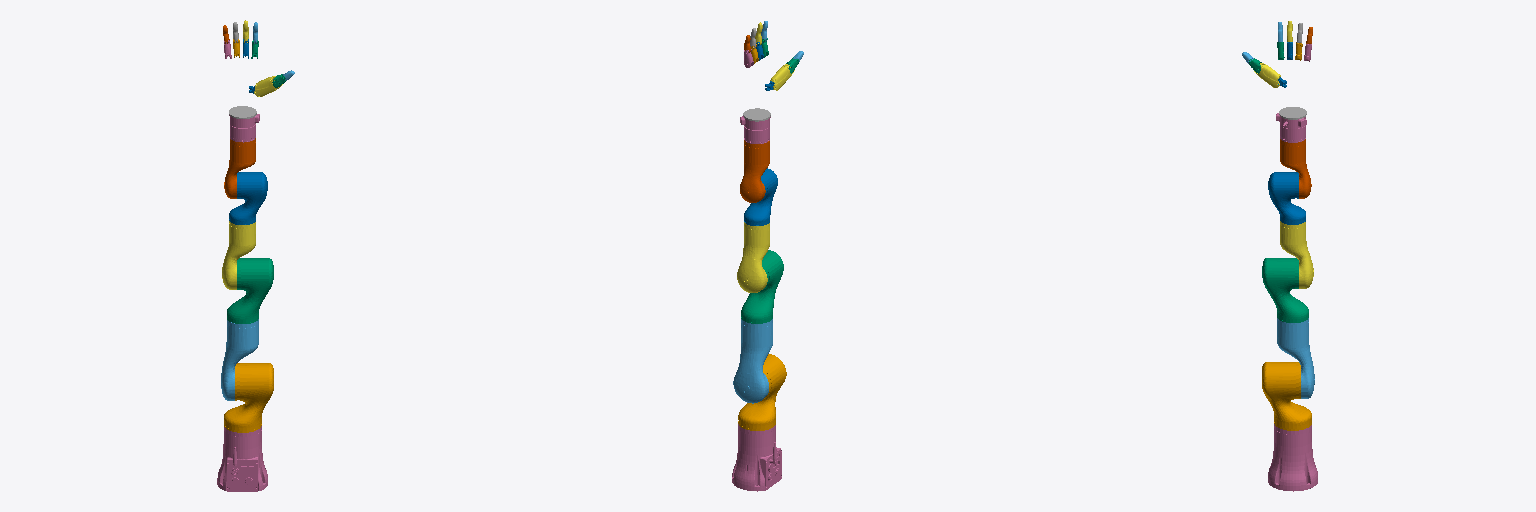
robot.urdf — Realman_Inspire_R_mimic:
<?xml version="1.0" encoding="UTF-8"?>
<robot name="Realman_Inspire_R_mimic">
  <joint name="R_index_intermediate_joint" type="revolute">
    <origin xyz="-0.001 0.032026 0.0026138" rpy="0. 0. 0."/>
    <parent link="R_index_proximal"/>
    <child link="R_index_intermediate"/>
    <axis xyz="1. 0. 0."/>
    <limit lower="0." upper="1.7" effort="1." velocity="17453.2925199"/>
  </joint>
  <joint name="R_index_proximal_joint" type="revolute">
    <origin xyz="-0.0019977 -0.0322074 0.1386 " rpy="1.5707964 0.0348927 -1.6415869"/>
    <parent link="R_hand_base_link"/>
    <child link="R_index_proximal"/>
    <axis xyz="1. 0. 0."/>
    <limit lower="0." upper="1.7" effort="inf" velocity="17453.2925199"/>
  </joint>
  <joint name="R_middle_intermediate_joint" type="revolute">
    <origin xyz="-0.001 0.032041 0.0024229" rpy="0. 0. 0."/>
    <parent link="R_middle_proximal"/>
    <child link="R_middle_intermediate"/>
    <axis xyz="1. 0. 0."/>
    <limit lower="0." upper="1.7" effort="1." velocity="17453.2925199"/>
  </joint>
  <joint name="R_middle_proximal_joint" type="revolute">
    <origin xyz="-0.0006314 -0.0129378 0.13917 " rpy="1.5707964 -0.0000072 -1.6415869"/>
    <parent link="R_hand_base_link"/>
    <child link="R_middle_proximal"/>
    <axis xyz="1. 0. 0."/>
    <limit lower="0." upper="1.7" effort="1." velocity="17453.2925199"/>
  </joint>
  <joint name="R_pinky_intermediate_joint" type="revolute">
    <origin xyz="-0.001 0.032041 0.0024229" rpy="0. 0. 0."/>
    <parent link="R_pinky_proximal"/>
    <child link="R_pinky_intermediate"/>
    <axis xyz="1. 0. 0."/>
    <limit lower="0." upper="1.7" effort="1." velocity="17453.2925199"/>
  </joint>
  <joint name="R_pinky_proximal_joint" type="revolute">
    <origin xyz="0.0020874 0.025404 0.13778 " rpy="1.5707964 -0.1046926 -1.6415869"/>
    <parent link="R_hand_base_link"/>
    <child link="R_pinky_proximal"/>
    <axis xyz="1. 0. 0."/>
    <limit lower="0." upper="1.7" effort="1." velocity="17453.2925199"/>
  </joint>
  <joint name="R_ring_intermediate_joint" type="revolute">
    <origin xyz="-0.001 0.032041 0.0024229" rpy="0. 0. 0."/>
    <parent link="R_ring_proximal"/>
    <child link="R_ring_intermediate"/>
    <axis xyz="1. 0. 0."/>
    <limit lower="0." upper="1.7" effort="1." velocity="17453.2925199"/>
  </joint>
  <joint name="R_ring_proximal_joint" type="revolute">
    <origin xyz="0.0007293 0.0062512 0.13898 " rpy="1.5707964 -0.0523926 -1.6415869"/>
    <parent link="R_hand_base_link"/>
    <child link="R_ring_proximal"/>
    <axis xyz="1. 0. 0."/>
    <limit lower="0." upper="1.7" effort="1." velocity="17453.2925199"/>
  </joint>
  <joint name="R_thumb_distal_joint" type="revolute">
    <origin xyz="-0.0012 0.010156 -0.020248" rpy="0. 0. 0."/>
    <parent link="R_thumb_intermediate"/>
    <child link="R_thumb_distal"/>
    <axis xyz="1. 0. 0."/>
    <limit lower="-3.1415927" upper="3.1415927" effort="1." velocity="0.5"/>
  </joint>
  <joint name="R_thumb_intermediate_joint" type="revolute">
    <origin xyz="-0.0008 0.034553 -0.04407 " rpy="0. 0. 0."/>
    <parent link="R_thumb_proximal"/>
    <child link="R_thumb_intermediate"/>
    <axis xyz="1. 0. 0."/>
    <limit lower="-3.1415927" upper="3.1415927" effort="1." velocity="17453.2925199"/>
  </joint>
  <joint name="R_thumb_proximal_pitch_joint" type="revolute">
    <origin xyz="0.00925 0.010892 -0.0088099" rpy="0.0000011 -0.2828926 1.5707926"/>
    <parent link="R_thumb_proximal_base"/>
    <child link="R_thumb_proximal"/>
    <axis xyz="1. 0. 0."/>
    <limit lower="-0.1" upper="0.6" effort="1." velocity="17453.2925199"/>
  </joint>
  <joint name="R_thumb_proximal_yaw_joint" type="revolute">
    <origin xyz="-0.018364 -0.0191992 0.07117 " rpy="1.5940461 1.5707927 3.0940557"/>
    <parent link="R_hand_base_link"/>
    <child link="R_thumb_proximal_base"/>
    <axis xyz="1. 0. 0."/>
    <limit lower="-0.1" upper="1.2999998" effort="1." velocity="0.5"/>
  </joint>
  <joint name="hand_joint" type="fixed">
    <origin xyz="-0. 0. 0." rpy="0. 1.5707963 0. "/>
    <parent link="Link7"/>
    <child link="R_flange_link"/>
  </joint>
  <joint name="hand_root_joint" type="fixed">
    <origin xyz="0. 0. -0." rpy="0. 0. 0."/>
    <parent link="R_flange_link"/>
    <child link="R_hand_base_link"/>
  </joint>
  <joint name="joint1" type="revolute">
    <origin xyz="0. 0. 0.2405" rpy="3.1415927 -1.5707928 1.5707964"/>
    <parent link="base_link"/>
    <child link="Link1"/>
    <axis xyz="1. 0. 0."/>
    <limit lower="-3.1070001" upper="3.1070001" effort="100." velocity="1."/>
  </joint>
  <joint name="joint2" type="revolute">
    <origin xyz="0. 0. 0." rpy="3.1415927 -1.5707928 0. "/>
    <parent link="Link1"/>
    <child link="Link2"/>
    <axis xyz="1. 0. 0."/>
    <limit lower="-2.2689999" upper="2.2689999" effort="100." velocity="1."/>
  </joint>
  <joint name="joint3" type="revolute">
    <origin xyz="0. 0. 0.256" rpy="3.1415927 -1.5707928 0. "/>
    <parent link="Link2"/>
    <child link="Link3"/>
    <axis xyz="1. 0. 0."/>
    <limit lower="-3.1070001" upper="3.1070001" effort="100." velocity="1."/>
  </joint>
  <joint name="joint4" type="revolute">
    <origin xyz="0. 0. 0." rpy="3.1415927 -1.5707928 0. "/>
    <parent link="Link3"/>
    <child link="Link4"/>
    <axis xyz="1. 0. 0."/>
    <limit lower="-2.3559998" upper="2.3559998" effort="100." velocity="1."/>
  </joint>
  <joint name="joint5" type="revolute">
    <origin xyz="0. 0. 0.21" rpy="3.1415927 -1.5707928 0. "/>
    <parent link="Link4"/>
    <child link="Link5"/>
    <axis xyz="1. 0. 0."/>
    <limit lower="-3.1070001" upper="3.1070001" effort="100." velocity="1."/>
  </joint>
  <joint name="joint6" type="revolute">
    <origin xyz="0. 0. 0." rpy="3.1415927 -1.5707928 0. "/>
    <parent link="Link5"/>
    <child link="Link6"/>
    <axis xyz="1. 0. 0."/>
    <limit lower="-2.2339999" upper="2.2339999" effort="100." velocity="1."/>
  </joint>
  <joint name="joint7" type="revolute">
    <origin xyz="0. 0. 0.1725" rpy="-1.5707964 -1.5707964 0. "/>
    <parent link="Link6"/>
    <child link="Link7"/>
    <axis xyz="1. 0. 0."/>
    <limit lower="-6.2829994" upper="6.2829994" effort="100." velocity="1."/>
  </joint>
  <joint name="root_joint" type="fixed">
    <origin xyz="0. 0. 0." rpy="0. 0. 0."/>
    <parent link="Root"/>
    <child link="base_link"/>
  </joint>
  <link name="Link1">
    <inertial>
      <origin xyz="0. 0. 0." rpy="0. 0. 0."/>
      <mass value="0.59356"/>
      <inertia ixx="0." ixy="0." ixz="0." iyy="0." iyz="0." izz="0."/>
    </inertial>
    <visual>
      <origin xyz="0. 0. 0." rpy="0. 0. 1.5707964"/>
      <geometry>
        <mesh filename="meshes/Link1_visuals.obj" scale="1. 1. 1."/>
      </geometry>
    </visual>
    <visual>
      <origin xyz="0. 0. 0." rpy="0. 0. 1.5707964"/>
      <geometry>
        <mesh filename="meshes/Link1_collisions.obj" scale="1. 1. 1."/>
      </geometry>
    </visual>
    <collision>
      <origin xyz="0. 0. 0." rpy="0. 0. 1.5707964"/>
      <geometry>
        <mesh filename="meshes/Link1_collisions.obj" scale="1. 1. 1."/>
      </geometry>
    </collision>
  </link>
  <link name="Link2">
    <inertial>
      <origin xyz="0. 0. 0." rpy="0. 0. 0."/>
      <mass value="0.43285"/>
      <inertia ixx="0." ixy="0." ixz="0." iyy="0." iyz="0." izz="0."/>
    </inertial>
    <visual>
      <origin xyz="0. 0. 0." rpy="0. 0. -1.5707964"/>
      <geometry>
        <mesh filename="meshes/Link2_visuals.obj" scale="1. 1. 1."/>
      </geometry>
    </visual>
    <visual>
      <origin xyz="0. 0. 0." rpy="0. 0. -1.5707964"/>
      <geometry>
        <mesh filename="meshes/Link2_collisions.obj" scale="1. 1. 1."/>
      </geometry>
    </visual>
    <collision>
      <origin xyz="0. 0. 0." rpy="0. 0. -1.5707964"/>
      <geometry>
        <mesh filename="meshes/Link2_collisions.obj" scale="1. 1. 1."/>
      </geometry>
    </collision>
  </link>
  <link name="Link3">
    <inertial>
      <origin xyz="0. 0. 0." rpy="0. 0. 0."/>
      <mass value="0.43132"/>
      <inertia ixx="0." ixy="0." ixz="0." iyy="0." iyz="0." izz="0."/>
    </inertial>
    <visual>
      <origin xyz="0. 0. 0." rpy="0. 0. 1.5707964"/>
      <geometry>
        <mesh filename="meshes/Link3_visuals.obj" scale="1. 1. 1."/>
      </geometry>
    </visual>
    <visual>
      <origin xyz="0. 0. 0." rpy="0. 0. 1.5707964"/>
      <geometry>
        <mesh filename="meshes/Link3_collisions.obj" scale="1. 1. 1."/>
      </geometry>
    </visual>
    <collision>
      <origin xyz="0. 0. 0." rpy="0. 0. 1.5707964"/>
      <geometry>
        <mesh filename="meshes/Link3_collisions.obj" scale="1. 1. 1."/>
      </geometry>
    </collision>
  </link>
  <link name="Link4">
    <inertial>
      <origin xyz="0. 0. 0." rpy="0. 0. 0."/>
      <mass value="0.28963"/>
      <inertia ixx="0." ixy="0." ixz="0." iyy="0." iyz="0." izz="0."/>
    </inertial>
    <visual>
      <origin xyz="0. 0. 0." rpy="0. 0. -1.5707964"/>
      <geometry>
        <mesh filename="meshes/Link4_visuals.obj" scale="1. 1. 1."/>
      </geometry>
    </visual>
    <visual>
      <origin xyz="0. 0. 0." rpy="0. 0. -1.5707964"/>
      <geometry>
        <mesh filename="meshes/Link4_collisions.obj" scale="1. 1. 1."/>
      </geometry>
    </visual>
    <collision>
      <origin xyz="0. 0. 0." rpy="0. 0. -1.5707964"/>
      <geometry>
        <mesh filename="meshes/Link4_collisions.obj" scale="1. 1. 1."/>
      </geometry>
    </collision>
  </link>
  <link name="Link5">
    <inertial>
      <origin xyz="0. 0. 0." rpy="0. 0. 0."/>
      <mass value="0.23941"/>
      <inertia ixx="0." ixy="0." ixz="0." iyy="0." iyz="0." izz="0."/>
    </inertial>
    <visual>
      <origin xyz="0. 0. 0." rpy="0. 0. 1.5707964"/>
      <geometry>
        <mesh filename="meshes/Link5_visuals.obj" scale="1. 1. 1."/>
      </geometry>
    </visual>
    <visual>
      <origin xyz="0. 0. 0." rpy="0. 0. 1.5707964"/>
      <geometry>
        <mesh filename="meshes/Link5_collisions.obj" scale="1. 1. 1."/>
      </geometry>
    </visual>
    <collision>
      <origin xyz="0. 0. 0." rpy="0. 0. 1.5707964"/>
      <geometry>
        <mesh filename="meshes/Link5_collisions.obj" scale="1. 1. 1."/>
      </geometry>
    </collision>
  </link>
  <link name="Link6">
    <inertial>
      <origin xyz="0. 0. 0." rpy="0. 0. 0."/>
      <mass value="0.21879"/>
      <inertia ixx="0." ixy="0." ixz="0." iyy="0." iyz="0." izz="0."/>
    </inertial>
    <visual>
      <origin xyz="0. 0. 0." rpy="0. 0. -1.5707964"/>
      <geometry>
        <mesh filename="meshes/Link6_visuals.obj" scale="1. 1. 1."/>
      </geometry>
    </visual>
    <visual>
      <origin xyz="0. 0. 0." rpy="0. 0. -1.5707964"/>
      <geometry>
        <mesh filename="meshes/Link6_collisions.obj" scale="1. 1. 1."/>
      </geometry>
    </visual>
    <collision>
      <origin xyz="0. 0. 0." rpy="0. 0. -1.5707964"/>
      <geometry>
        <mesh filename="meshes/Link6_collisions.obj" scale="1. 1. 1."/>
      </geometry>
    </collision>
  </link>
  <link name="Link7">
    <inertial>
      <origin xyz="0. 0. 0." rpy="0. 0. 0."/>
      <mass value="0.14433"/>
      <inertia ixx="0." ixy="0." ixz="0." iyy="0." iyz="0." izz="0."/>
    </inertial>
    <visual>
      <origin xyz="0. 0. 0." rpy="0. 1.5707963 0. "/>
      <geometry>
        <mesh filename="meshes/Link7_visuals.obj" scale="1. 1. 1."/>
      </geometry>
    </visual>
    <visual>
      <origin xyz="0. 0. 0." rpy="0. 1.5707963 0. "/>
      <geometry>
        <mesh filename="meshes/Link7_collisions.obj" scale="1. 1. 1."/>
      </geometry>
    </visual>
    <collision>
      <origin xyz="0. 0. 0." rpy="0. 1.5707963 0. "/>
      <geometry>
        <mesh filename="meshes/Link7_collisions.obj" scale="1. 1. 1."/>
      </geometry>
    </collision>
  </link>
  <link name="R_flange_link">
    <visual>
      <origin xyz="0. 0. 0." rpy="0. 0. 0."/>
      <geometry>
        <cylinder radius="0.03" length="0.0038"/>
      </geometry>
    </visual>
    <collision>
      <origin xyz="0. 0. 0." rpy="0. 0. 0."/>
      <geometry>
        <cylinder radius="0.03" length="0.0038"/>
      </geometry>
    </collision>
  </link>
  <link name="R_hand_base_link">
    <inertial>
      <origin xyz="0. 0. 0." rpy="0. 0. 0."/>
      <mass value="0.14143"/>
      <inertia ixx="0." ixy="0." ixz="0." iyy="0." iyz="0." izz="0."/>
    </inertial>
    <visual>
      <origin xyz="-0. -0. 0.00207" rpy="-1.5707964 0. -0.0707906"/>
      <geometry>
        <mesh filename="meshes/R_hand_base_link_visuals.obj" scale="1. 1. 1."/>
      </geometry>
    </visual>
    <visual>
      <origin xyz="-0. -0. 0.00207" rpy="-1.5707964 0. -0.0707906"/>
      <geometry>
        <mesh filename="meshes/R_hand_base_link_collisions.obj" scale="1. 1. 1."/>
      </geometry>
    </visual>
    <collision>
      <origin xyz="-0. -0. 0.00207" rpy="-1.5707964 0. -0.0707906"/>
      <geometry>
        <mesh filename="meshes/R_hand_base_link_collisions.obj" scale="1. 1. 1."/>
      </geometry>
    </collision>
  </link>
  <link name="R_index_intermediate">
    <inertial>
      <origin xyz="0. 0. 0." rpy="0. 0. 0."/>
      <mass value="0.0045683"/>
      <inertia ixx="0." ixy="0." ixz="0." iyy="0." iyz="0." izz="0."/>
    </inertial>
    <visual>
      <origin xyz="0. 0. 0." rpy="0. 1.5707963 0. "/>
      <geometry>
        <mesh filename="meshes/R_index_intermediate_visuals.obj" scale="1. 1. 1."/>
      </geometry>
    </visual>
    <visual>
      <origin xyz="0. 0. 0." rpy="0. 1.5707963 0. "/>
      <geometry>
        <mesh filename="meshes/R_index_intermediate_collisions.obj" scale="1. 1. 1."/>
      </geometry>
    </visual>
    <collision>
      <origin xyz="0. 0. 0." rpy="0. 1.5707963 0. "/>
      <geometry>
        <mesh filename="meshes/R_index_intermediate_collisions.obj" scale="1. 1. 1."/>
      </geometry>
    </collision>
  </link>
  <link name="R_index_proximal">
    <inertial>
      <origin xyz="0. 0. 0." rpy="0. 0. 0."/>
      <mass value="0.0042403"/>
      <inertia ixx="0." ixy="0." ixz="0." iyy="0." iyz="0." izz="0."/>
    </inertial>
    <visual>
      <origin xyz="0. 0. 0." rpy="0. 1.5707963 0. "/>
      <geometry>
        <mesh filename="meshes/R_index_proximal_visuals.obj" scale="1. 1. 1."/>
      </geometry>
    </visual>
    <visual>
      <origin xyz="0. 0. 0." rpy="0. 1.5707963 0. "/>
      <geometry>
        <mesh filename="meshes/R_index_proximal_collisions.obj" scale="1. 1. 1."/>
      </geometry>
    </visual>
    <collision>
      <origin xyz="0. 0. 0." rpy="0. 1.5707963 0. "/>
      <geometry>
        <mesh filename="meshes/R_index_proximal_collisions.obj" scale="1. 1. 1."/>
      </geometry>
    </collision>
  </link>
  <link name="R_middle_intermediate">
    <inertial>
      <origin xyz="0. 0. 0." rpy="0. 0. 0."/>
      <mass value="0.0050396"/>
      <inertia ixx="0." ixy="0." ixz="0." iyy="0." iyz="0." izz="0."/>
    </inertial>
    <visual>
      <origin xyz="0. 0. 0." rpy="0. 1.5707963 0. "/>
      <geometry>
        <mesh filename="meshes/R_middle_intermediate_visuals.obj" scale="1. 1. 1."/>
      </geometry>
    </visual>
    <visual>
      <origin xyz="0. 0. 0." rpy="0. 1.5707963 0. "/>
      <geometry>
        <mesh filename="meshes/R_middle_intermediate_collisions.obj" scale="1. 1. 1."/>
      </geometry>
    </visual>
    <collision>
      <origin xyz="0. 0. 0." rpy="0. 1.5707963 0. "/>
      <geometry>
        <mesh filename="meshes/R_middle_intermediate_collisions.obj" scale="1. 1. 1."/>
      </geometry>
    </collision>
  </link>
  <link name="R_middle_proximal">
    <inertial>
      <origin xyz="0. 0. 0." rpy="0. 0. 0."/>
      <mass value="0.0042403"/>
      <inertia ixx="0." ixy="0." ixz="0." iyy="0." iyz="0." izz="0."/>
    </inertial>
    <visual>
      <origin xyz="0. 0. 0." rpy="0. 1.5707963 0. "/>
      <geometry>
        <mesh filename="meshes/R_middle_proximal_visuals.obj" scale="1. 1. 1."/>
      </geometry>
    </visual>
    <visual>
      <origin xyz="0. 0. 0." rpy="0. 1.5707963 0. "/>
      <geometry>
        <mesh filename="meshes/R_middle_proximal_collisions.obj" scale="1. 1. 1."/>
      </geometry>
    </visual>
    <collision>
      <origin xyz="0. 0. 0." rpy="0. 1.5707963 0. "/>
      <geometry>
        <mesh filename="meshes/R_middle_proximal_collisions.obj" scale="1. 1. 1."/>
      </geometry>
    </collision>
  </link>
  <link name="R_pinky_intermediate">
    <inertial>
      <origin xyz="0. 0. 0." rpy="0. 0. 0."/>
      <mass value="0.0035996"/>
      <inertia ixx="0." ixy="0." ixz="0." iyy="0." iyz="0." izz="0."/>
    </inertial>
    <visual>
      <origin xyz="0. 0. 0." rpy="0. 1.5707963 0. "/>
      <geometry>
        <mesh filename="meshes/R_pinky_intermediate_visuals.obj" scale="1. 1. 1."/>
      </geometry>
    </visual>
    <visual>
      <origin xyz="0. 0. 0." rpy="0. 1.5707963 0. "/>
      <geometry>
        <mesh filename="meshes/R_pinky_intermediate_collisions.obj" scale="1. 1. 1."/>
      </geometry>
    </visual>
    <collision>
      <origin xyz="0. 0. 0." rpy="0. 1.5707963 0. "/>
      <geometry>
        <mesh filename="meshes/R_pinky_intermediate_collisions.obj" scale="1. 1. 1."/>
      </geometry>
    </collision>
  </link>
  <link name="R_pinky_proximal">
    <inertial>
      <origin xyz="0. 0. 0." rpy="0. 0. 0."/>
      <mass value="0.0042403"/>
      <inertia ixx="0." ixy="0." ixz="0." iyy="0." iyz="0." izz="0."/>
    </inertial>
    <visual>
      <origin xyz="0. 0. 0." rpy="0. 1.5707963 0. "/>
      <geometry>
        <mesh filename="meshes/R_pinky_proximal_visuals.obj" scale="1. 1. 1."/>
      </geometry>
    </visual>
    <visual>
      <origin xyz="0. 0. 0." rpy="0. 1.5707963 0. "/>
      <geometry>
        <mesh filename="meshes/R_pinky_proximal_collisions.obj" scale="1. 1. 1."/>
      </geometry>
    </visual>
    <collision>
      <origin xyz="0. 0. 0." rpy="0. 1.5707963 0. "/>
      <geometry>
        <mesh filename="meshes/R_pinky_proximal_collisions.obj" scale="1. 1. 1."/>
      </geometry>
    </collision>
  </link>
  <link name="R_ring_intermediate">
    <inertial>
      <origin xyz="0. 0. 0." rpy="0. 0. 0."/>
      <mass value="0.0045683"/>
      <inertia ixx="0." ixy="0." ixz="0." iyy="0." iyz="0." izz="0."/>
    </inertial>
    <visual>
      <origin xyz="0. 0. 0." rpy="0. 1.5707963 0. "/>
      <geometry>
        <mesh filename="meshes/R_ring_intermediate_visuals.obj" scale="1. 1. 1."/>
      </geometry>
    </visual>
    <visual>
      <origin xyz="0. 0. 0." rpy="0. 1.5707963 0. "/>
      <geometry>
        <mesh filename="meshes/R_ring_intermediate_collisions.obj" scale="1. 1. 1."/>
      </geometry>
    </visual>
    <collision>
      <origin xyz="0. 0. 0." rpy="0. 1.5707963 0. "/>
      <geometry>
        <mesh filename="meshes/R_ring_intermediate_collisions.obj" scale="1. 1. 1."/>
      </geometry>
    </collision>
  </link>
  <link name="R_ring_proximal">
    <inertial>
      <origin xyz="0. 0. 0." rpy="0. 0. 0."/>
      <mass value="0.0042403"/>
      <inertia ixx="0." ixy="0." ixz="0." iyy="0." iyz="0." izz="0."/>
    </inertial>
    <visual>
      <origin xyz="0. 0. 0." rpy="0. 1.5707963 0. "/>
      <geometry>
        <mesh filename="meshes/R_ring_proximal_visuals.obj" scale="1. 1. 1."/>
      </geometry>
    </visual>
    <visual>
      <origin xyz="0. 0. 0." rpy="0. 1.5707963 0. "/>
      <geometry>
        <mesh filename="meshes/R_ring_proximal_collisions.obj" scale="1. 1. 1."/>
      </geometry>
    </visual>
    <collision>
      <origin xyz="0. 0. 0." rpy="0. 1.5707963 0. "/>
      <geometry>
        <mesh filename="meshes/R_ring_proximal_collisions.obj" scale="1. 1. 1."/>
      </geometry>
    </collision>
  </link>
  <link name="R_thumb_distal">
    <inertial>
      <origin xyz="0. 0. 0." rpy="0. 0. 0."/>
      <mass value="0.0033441"/>
      <inertia ixx="0." ixy="0." ixz="0." iyy="0." iyz="0." izz="0."/>
    </inertial>
    <visual>
      <origin xyz="0. 0. 0." rpy="0. 1.5707963 0. "/>
      <geometry>
        <mesh filename="meshes/R_thumb_distal_visuals.obj" scale="1. 1. 1."/>
      </geometry>
    </visual>
    <visual>
      <origin xyz="0. 0. 0." rpy="0. 1.5707963 0. "/>
      <geometry>
        <mesh filename="meshes/R_thumb_distal_collisions.obj" scale="1. 1. 1."/>
      </geometry>
    </visual>
    <collision>
      <origin xyz="0. 0. 0." rpy="0. 1.5707963 0. "/>
      <geometry>
        <mesh filename="meshes/R_thumb_distal_collisions.obj" scale="1. 1. 1."/>
      </geometry>
    </collision>
  </link>
  <link name="R_thumb_intermediate">
    <inertial>
      <origin xyz="0. 0. 0." rpy="0. 0. 0."/>
      <mass value="0.0037847"/>
      <inertia ixx="0." ixy="0." ixz="0." iyy="0." iyz="0." izz="0."/>
    </inertial>
    <visual>
      <origin xyz="0. 0. 0." rpy="0. 1.5707963 0. "/>
      <geometry>
        <mesh filename="meshes/R_thumb_intermediate_visuals.obj" scale="1. 1. 1."/>
      </geometry>
    </visual>
    <visual>
      <origin xyz="0. 0. 0." rpy="0. 1.5707963 0. "/>
      <geometry>
        <mesh filename="meshes/R_thumb_intermediate_collisions.obj" scale="1. 1. 1."/>
      </geometry>
    </visual>
    <collision>
      <origin xyz="0. 0. 0." rpy="0. 1.5707963 0. "/>
      <geometry>
        <mesh filename="meshes/R_thumb_intermediate_collisions.obj" scale="1. 1. 1."/>
      </geometry>
    </collision>
  </link>
  <link name="R_thumb_proximal">
    <inertial>
      <origin xyz="0. 0. 0." rpy="0. 0. 0."/>
      <mass value="0.0066075"/>
      <inertia ixx="0." ixy="0." ixz="0." iyy="0." iyz="0." izz="0."/>
    </inertial>
    <visual>
      <origin xyz="0. 0. 0." rpy="0. 1.5707963 0. "/>
      <geometry>
        <mesh filename="meshes/R_thumb_proximal_visuals.obj" scale="1. 1. 1."/>
      </geometry>
    </visual>
    <visual>
      <origin xyz="0. 0. 0." rpy="0. 1.5707963 0. "/>
      <geometry>
        <mesh filename="meshes/R_thumb_proximal_collisions.obj" scale="1. 1. 1."/>
      </geometry>
    </visual>
    <collision>
      <origin xyz="0. 0. 0." rpy="0. 1.5707963 0. "/>
      <geometry>
        <mesh filename="meshes/R_thumb_proximal_collisions.obj" scale="1. 1. 1."/>
      </geometry>
    </collision>
  </link>
  <link name="R_thumb_proximal_base">
    <inertial>
      <origin xyz="0. 0. 0." rpy="0. 0. 0."/>
      <mass value="0.0018869"/>
      <inertia ixx="0." ixy="0." ixz="0." iyy="0." iyz="0." izz="0."/>
    </inertial>
    <visual>
      <origin xyz="0. 0. 0." rpy="0. -1.5707963 0. "/>
      <geometry>
        <mesh filename="meshes/R_thumb_proximal_base_visuals.obj" scale="1. 1. 1."/>
      </geometry>
    </visual>
    <visual>
      <origin xyz="0. 0. 0." rpy="0. -1.5707963 0. "/>
      <geometry>
        <mesh filename="meshes/R_thumb_proximal_base_collisions.obj" scale="1. 1. 1."/>
      </geometry>
    </visual>
    <collision>
      <origin xyz="0. 0. 0." rpy="0. -1.5707963 0. "/>
      <geometry>
        <mesh filename="meshes/R_thumb_proximal_base_collisions.obj" scale="1. 1. 1."/>
      </geometry>
    </collision>
  </link>
  <link name="Root"/>
  <link name="base_link">
    <inertial>
      <origin xyz="0. 0. 0." rpy="0. 0. 0."/>
      <mass value="0.84105"/>
      <inertia ixx="0." ixy="0." ixz="0." iyy="0." iyz="0." izz="0."/>
    </inertial>
    <visual>
      <origin xyz="0. 0. 0." rpy="0. 0. 0."/>
      <geometry>
        <mesh filename="meshes/base_link_visuals.obj" scale="1. 1. 1."/>
      </geometry>
    </visual>
    <visual>
      <origin xyz="0. 0. 0." rpy="0. 0. 0."/>
      <geometry>
        <mesh filename="meshes/base_link_collisions.obj" scale="1. 1. 1."/>
      </geometry>
    </visual>
    <collision>
      <origin xyz="0. 0. 0." rpy="0. 0. 0."/>
      <geometry>
        <mesh filename="meshes/base_link_collisions.obj" scale="1. 1. 1."/>
      </geometry>
    </collision>
  </link>
</robot>

--- Facts derived from the render (not from the file) ---
Views: 3 orthographic renders of the robot side by side, from view 1: azimuth 90°, elevation 25°; view 2: azimuth 150°, elevation 25°; view 3: azimuth 270°, elevation 25°.
Robot: Realman_Inspire_R_mimic — 23 links, 22 joints (19 revolute, 3 fixed); root link Root; default pose: all joints at 0.
Visible links, largest first — view 1: base_link, Link1, Link3, Link2, Link5, Link4, Link6, Link7; view 2: base_link, Link2, Link1, Link4, Link3, Link6, Link5, Link7; view 3: base_link, Link1, Link3, Link2, Link5, Link4, Link6, Link7.
Boxes of the visible links, x1,y1,x2,y2 form: base_link: [217, 426, 267, 491]; Link1: [224, 363, 273, 432]; Link3: [227, 258, 273, 323]; Link2: [221, 319, 258, 400]; Link5: [229, 172, 267, 224]; Link4: [222, 221, 255, 289]; Link6: [224, 138, 255, 198]; Link7: [229, 114, 259, 142]; base_link: [732, 424, 781, 491]; Link2: [733, 319, 772, 403]; Link1: [738, 354, 786, 430]; Link4: [737, 222, 769, 292]; Link3: [741, 250, 783, 323]; Link6: [740, 140, 769, 202]; Link5: [744, 168, 777, 225]; Link7: [740, 116, 770, 143]; base_link: [1268, 424, 1317, 491]; Link1: [1262, 362, 1311, 430]; Link3: [1262, 258, 1308, 322]; Link2: [1277, 318, 1314, 398]; Link5: [1268, 172, 1305, 224]; Link4: [1280, 221, 1313, 288]; Link6: [1280, 139, 1311, 198]; Link7: [1276, 113, 1306, 142].
Bounding box of the posed robot: 0.1143 × 0.1668 × 1.1 m (x, y, z).
Meshes: 42 distinct files referenced, 20 mesh visuals loaded (20 OBJ); not drawn: 22 (reference not matched to a file when rendering).